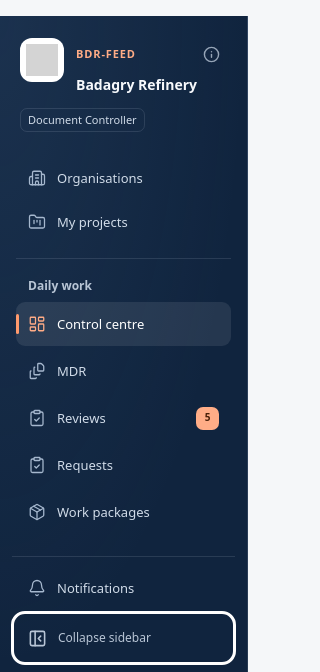
Test: collapsible desktop project sidebar › starts expanded and exposes a reversible native toggle with a controlled navigation landmark
The image size is (320, 672).
Click the button "Collapse sidebar" at (124, 638), box [16, 616, 231, 660]
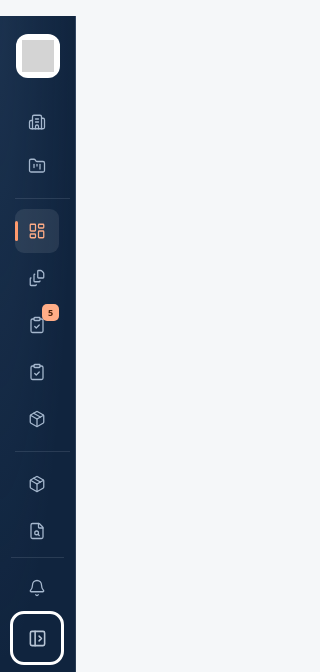
Result: the element named "Project sidebar" has attribute data-collapsed="true" at [0, 16, 76, 671]
Click the button named "Expand sidebar" at (37, 638), box [15, 616, 59, 660]
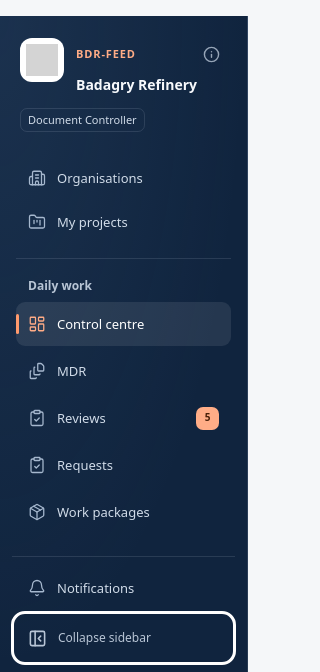
Result: the button "Collapse sidebar" is expanded at [16, 616, 231, 660]
